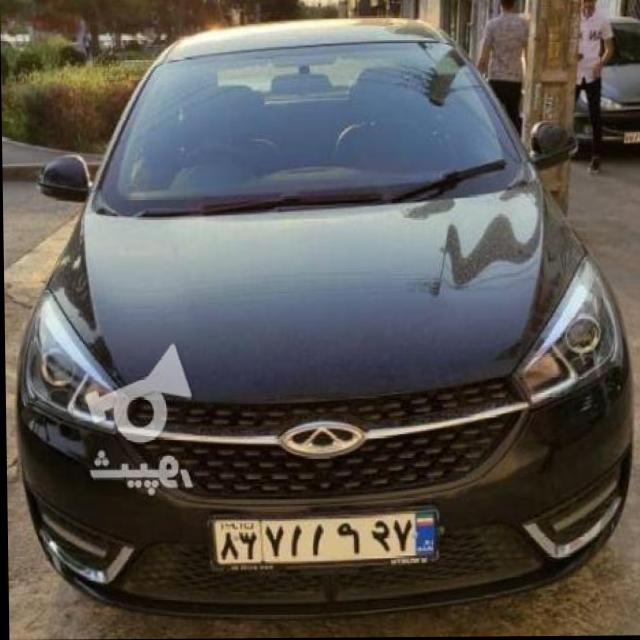licence: (207, 505, 437, 571), (624, 127, 640, 143)
